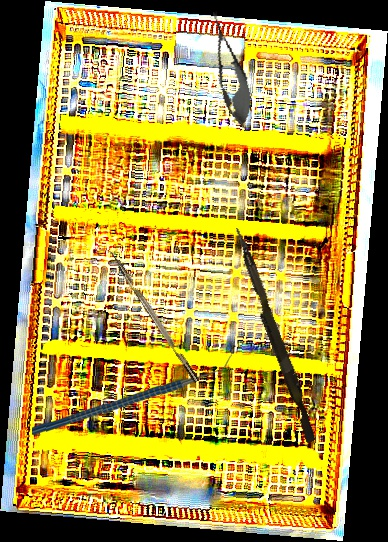Chopper: (32, 350, 232, 439), (98, 242, 200, 388)
Micro Scissor: (199, 6, 261, 133)
Pusher: (226, 226, 322, 444)
